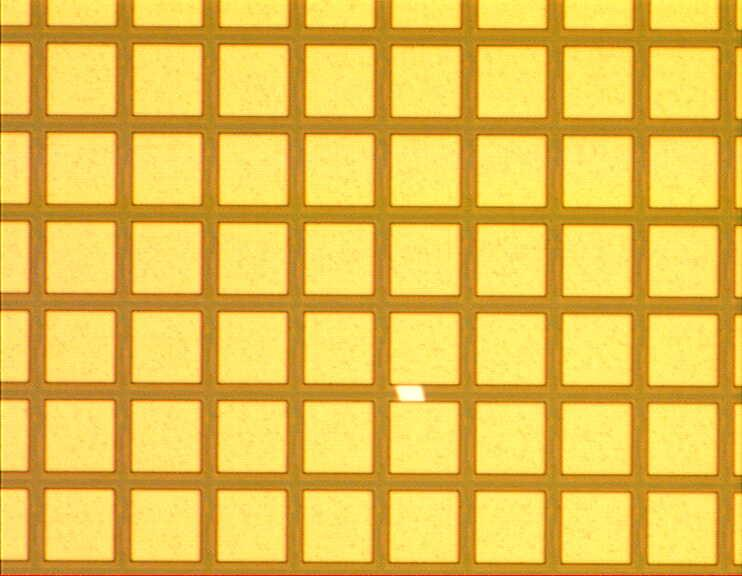BLOCK ETCH: (397, 378, 429, 409)
